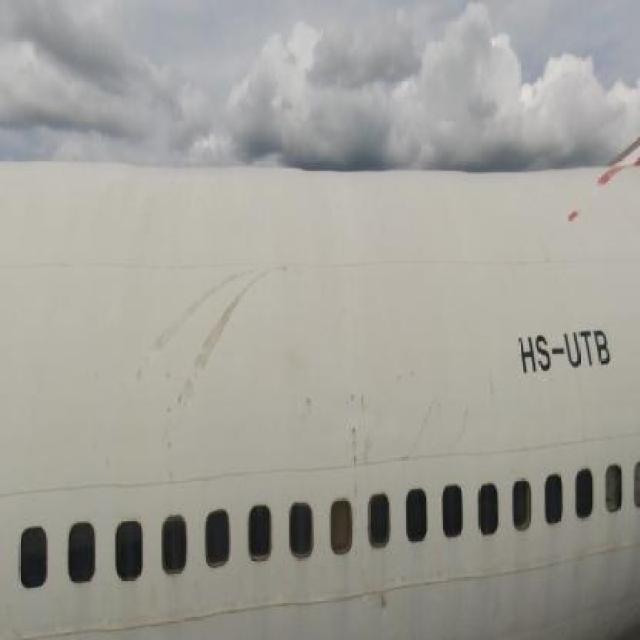Scartch: (334, 383, 386, 492), (365, 576, 398, 621)
